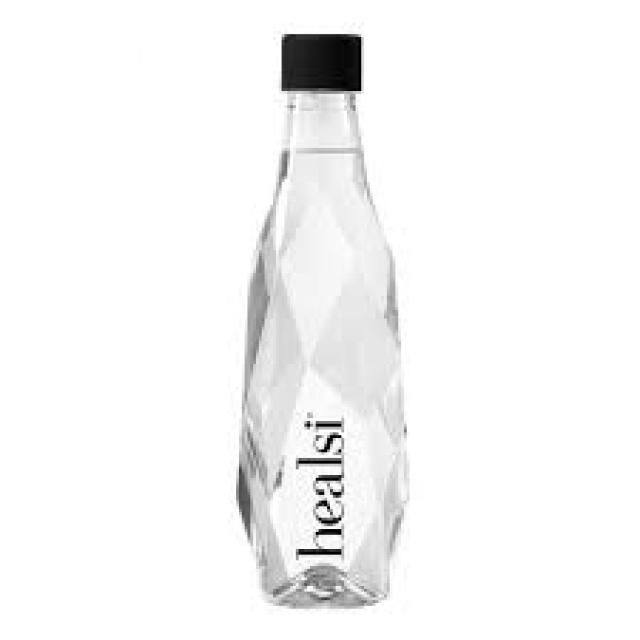bottle: (236, 34, 408, 606)
